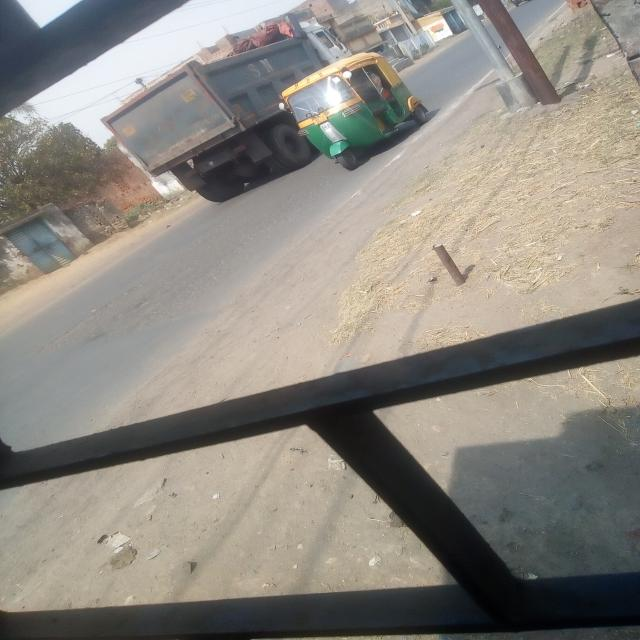truck: (101, 17, 341, 197)
